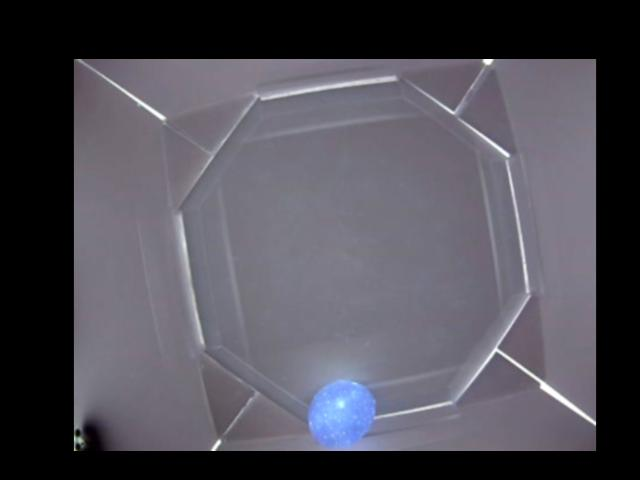Potato: (308, 378, 374, 450)
